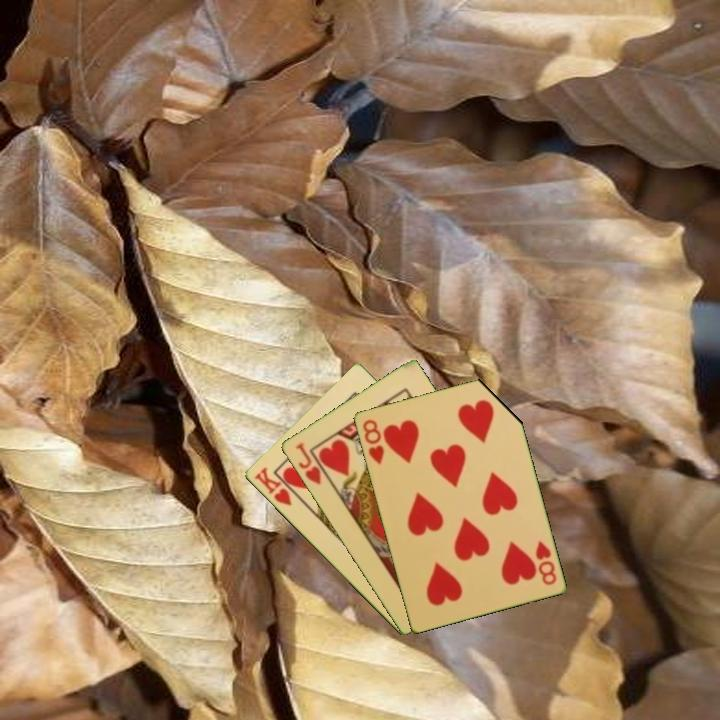8h: (359, 416, 387, 468), (531, 537, 559, 588)
Jh: (291, 439, 323, 488)
Kh: (250, 464, 303, 509)
